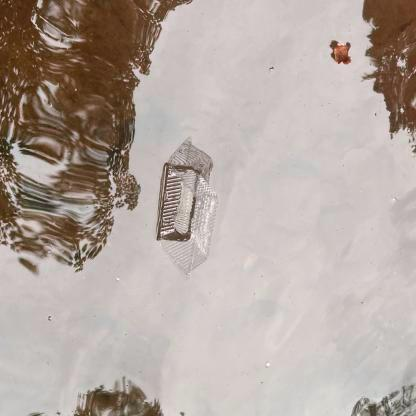Plastic: (148, 158, 224, 285)
